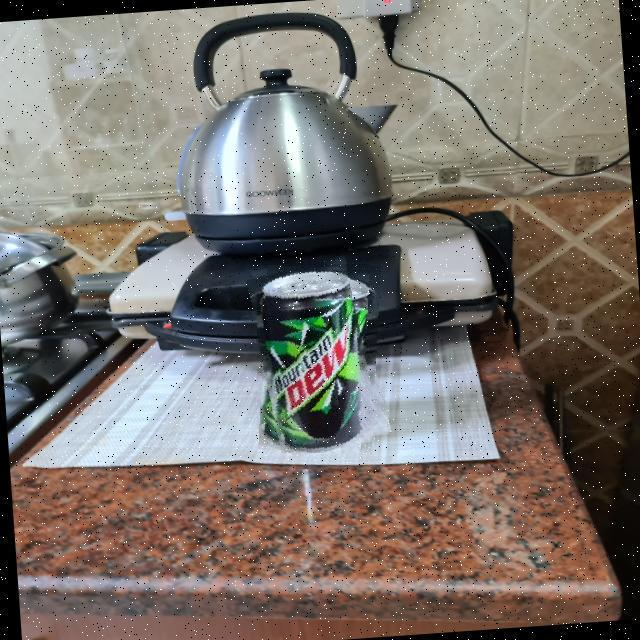recyclable: (257, 259, 381, 453)
